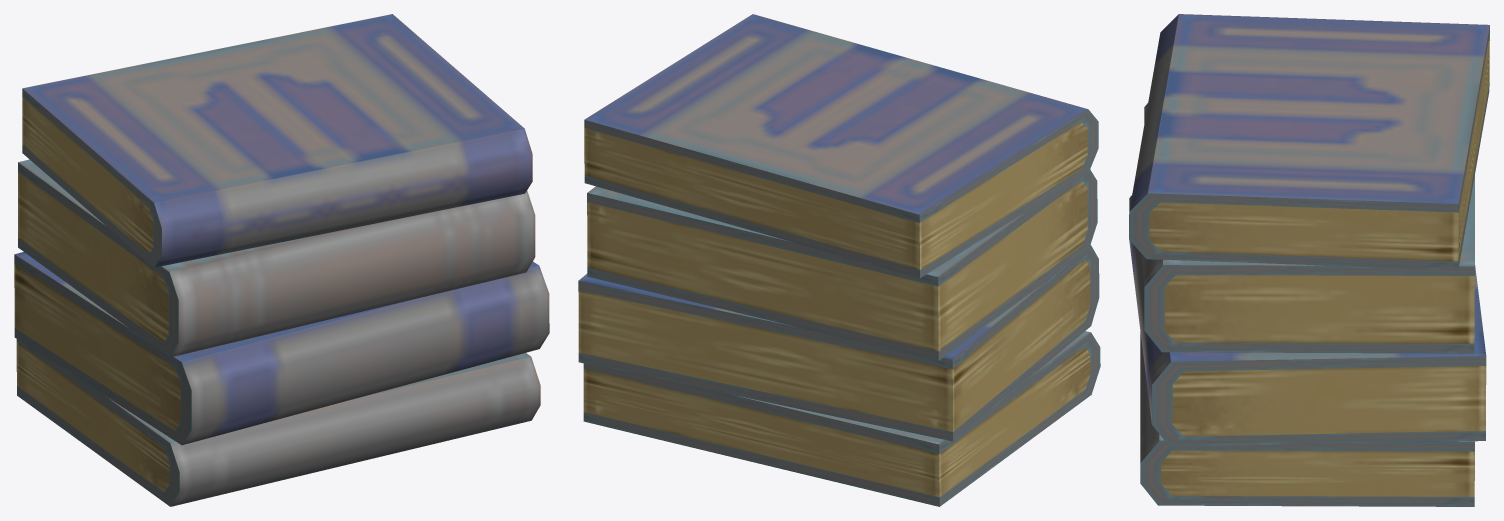
The model's file is book_stack_1.glb.
The picture shows the model from 3 angles, left to right: view 1: azimuth 30°, elevation 25°; view 2: azimuth 150°, elevation 25°; view 3: azimuth 270°, elevation 25°; orthographic projection. The views are drawn at different scales.
Visible parts, largest first — view 1: Book_Stack_1; view 2: Book_Stack_1; view 3: Book_Stack_1.
Boxes of the visible parts, bbox=[...] form: Book_Stack_1: bbox=[14, 14, 549, 506]; Book_Stack_1: bbox=[578, 14, 1100, 506]; Book_Stack_1: bbox=[1129, 14, 1489, 506].
Bounding box in the file's own units: 0.2849 × 0.2137 × 0.2263.
1 material, 1 textured.
